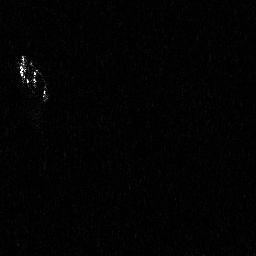ship: (18, 53, 52, 106)
